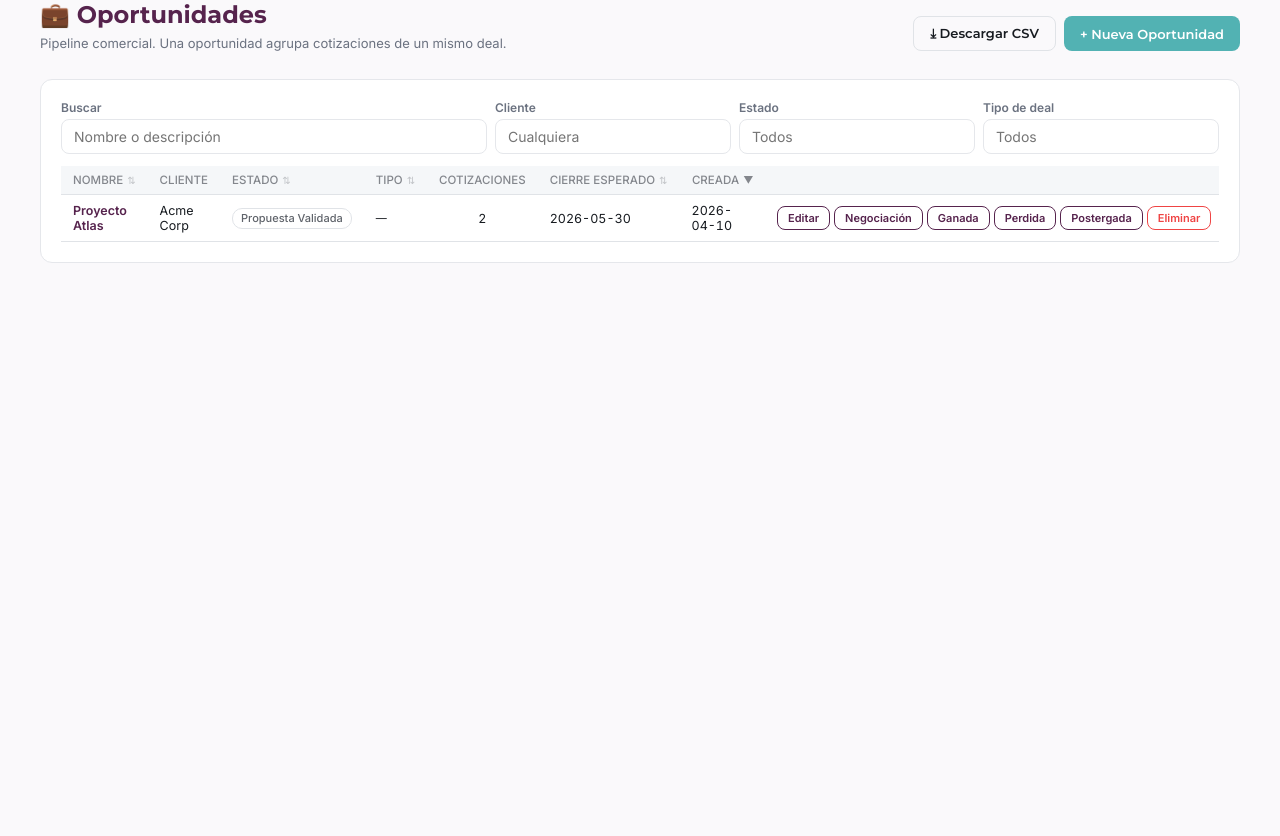
Scenario: Opportunities module › contract_type + monto estimado › calcula booking en vivo a partir del monto estimado
This screenshot has width=1280, height=836.
Expected: the link "Proyecto Atlas" is shown, top-left (73, 203), bottom-right (127, 233)
Click the dropdown named "Filtro por cliente" at (613, 136), box top-left (495, 119), bottom-right (731, 154)
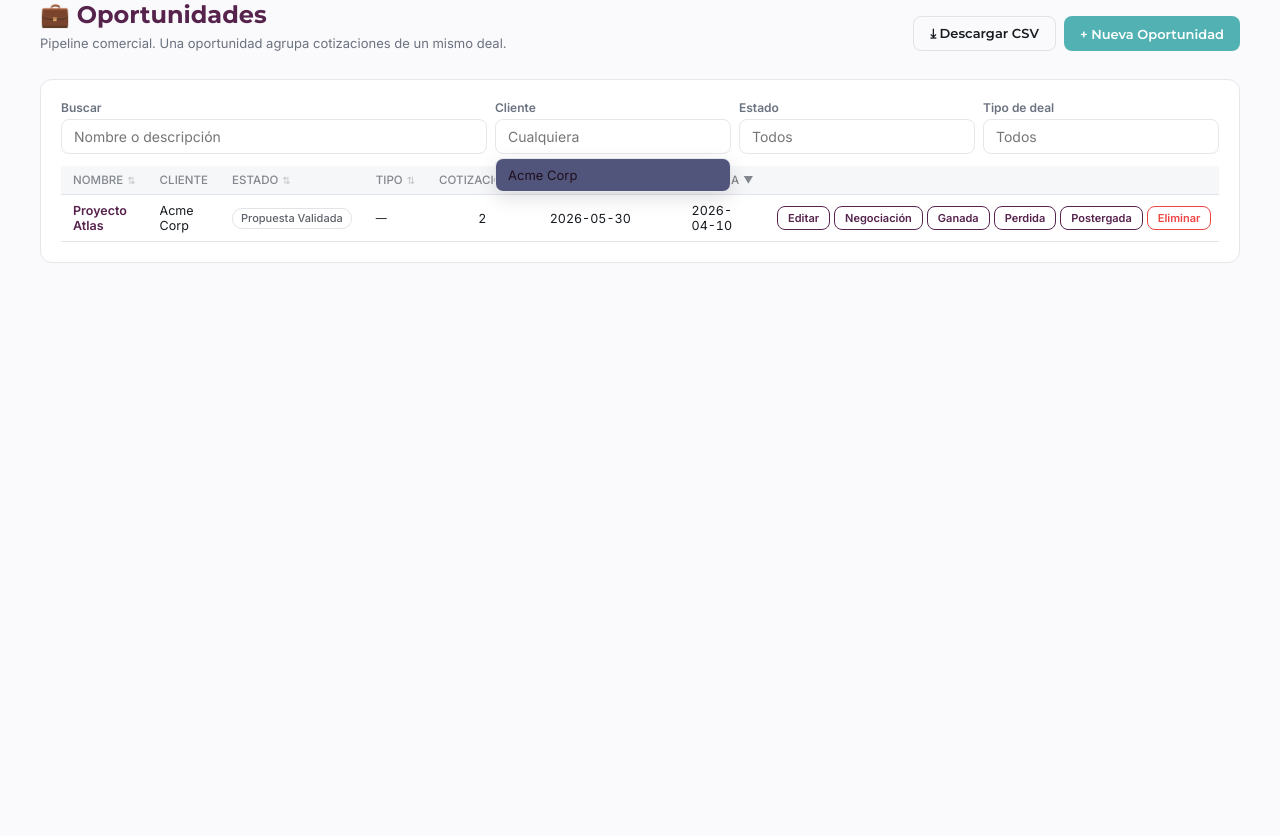
Expected: the list is shown, top-left (495, 158), bottom-right (731, 192)
Expected: the option "Acme Corp" is shown, top-left (496, 159), bottom-right (730, 191)
Press Escape in the dropdown named "Filtro por cliente", box top-left (495, 119), bottom-right (731, 154)
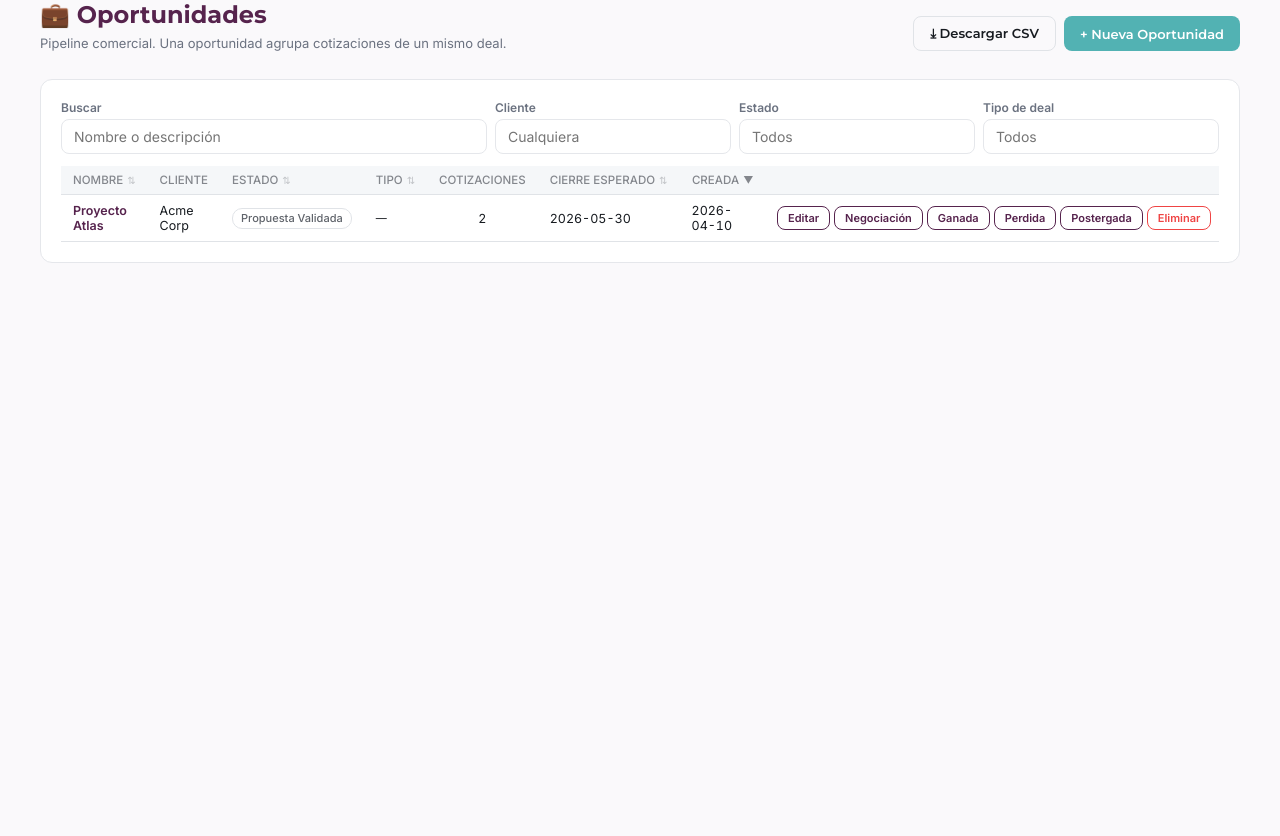
Click the button "+ Nueva Oportunidad" at (1152, 34), box top-left (1064, 16), bottom-right (1240, 51)
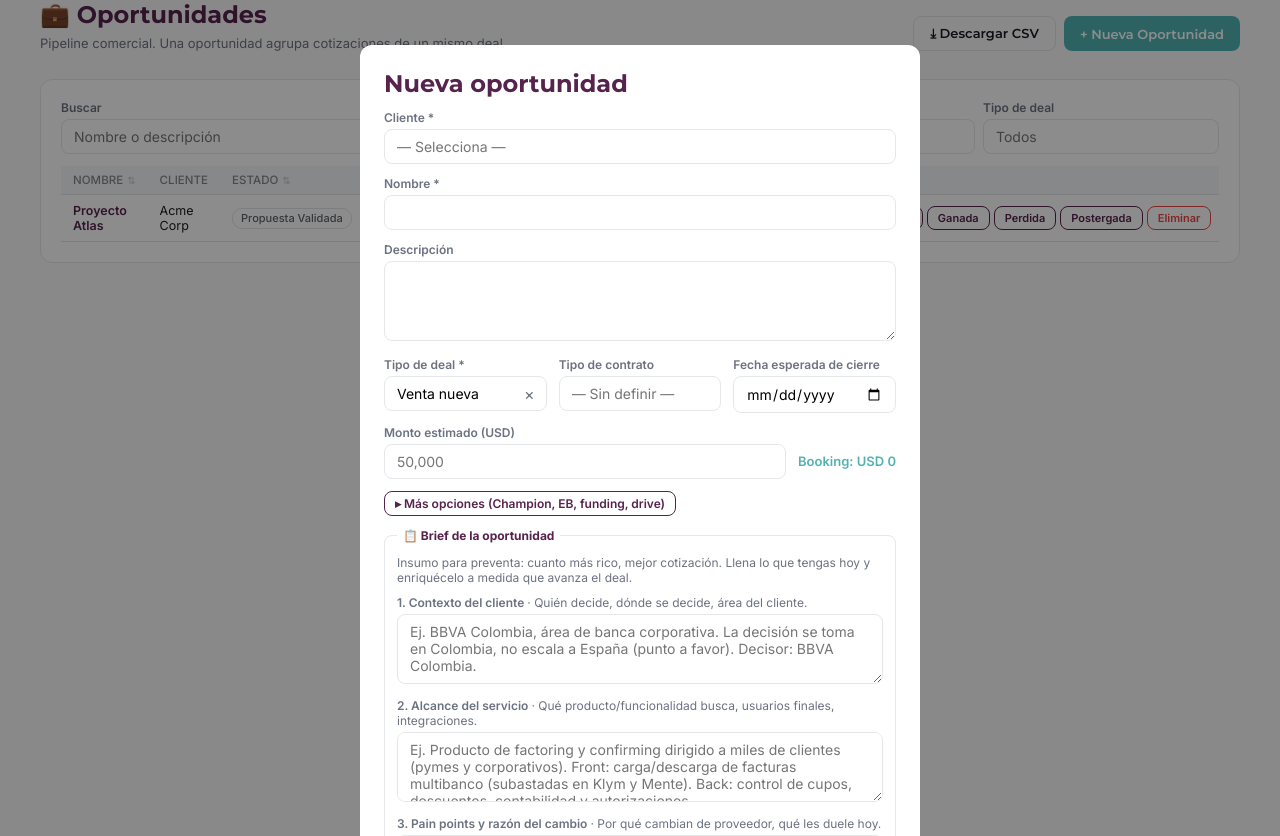
Type "50000" into the field named "Monto estimado USD" at (585, 462), box top-left (384, 444), bottom-right (786, 479)
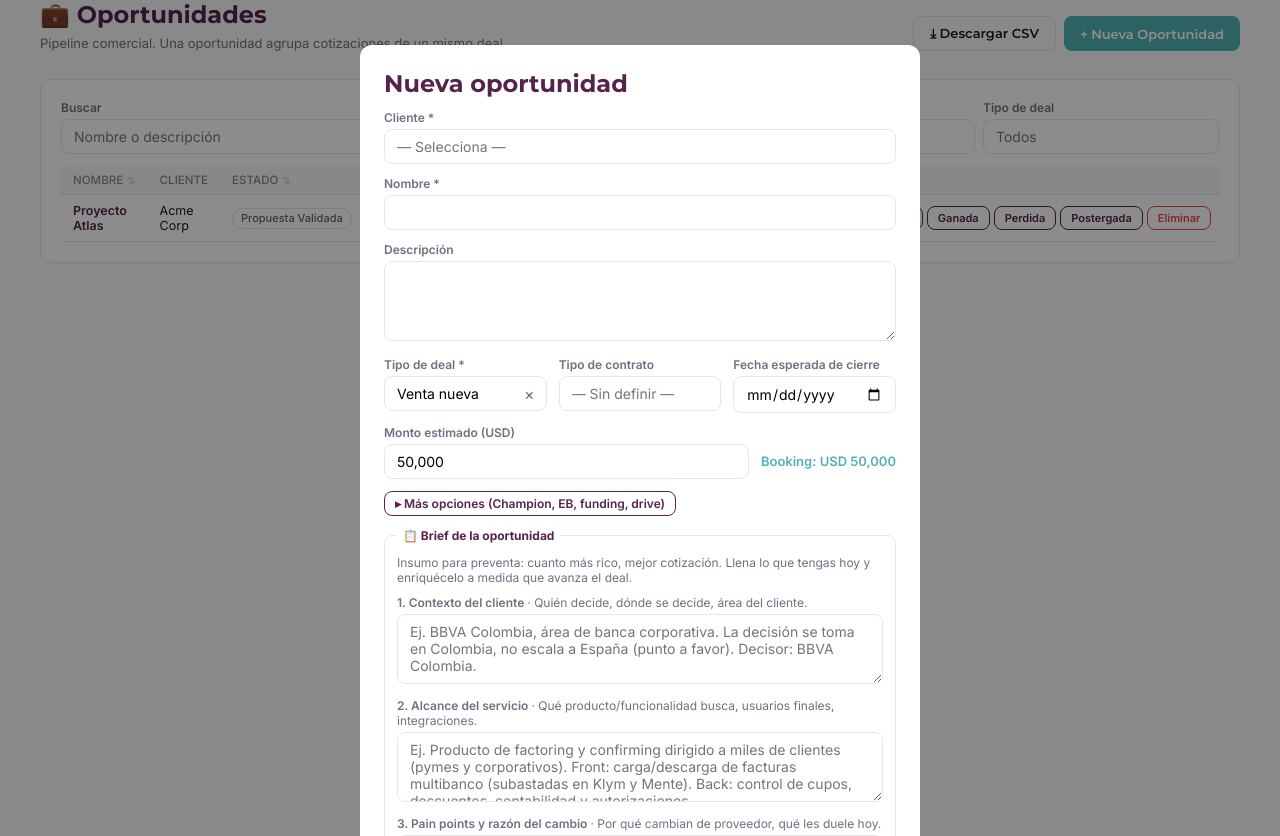
Expected: the text "Booking: USD 50,000" is shown, top-left (761, 453), bottom-right (896, 479)
